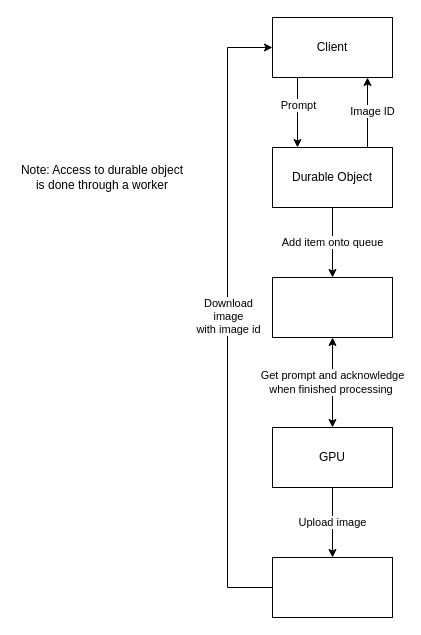
Image size: 421x635. Some labels were removed from this diagram. The shapes that lost their labels are listed below. From the top down, each one's box as (x1, y1, x2, y2) in pixels, then its label:
(272, 276, 392, 338): Queue
(272, 556, 392, 618): R2
